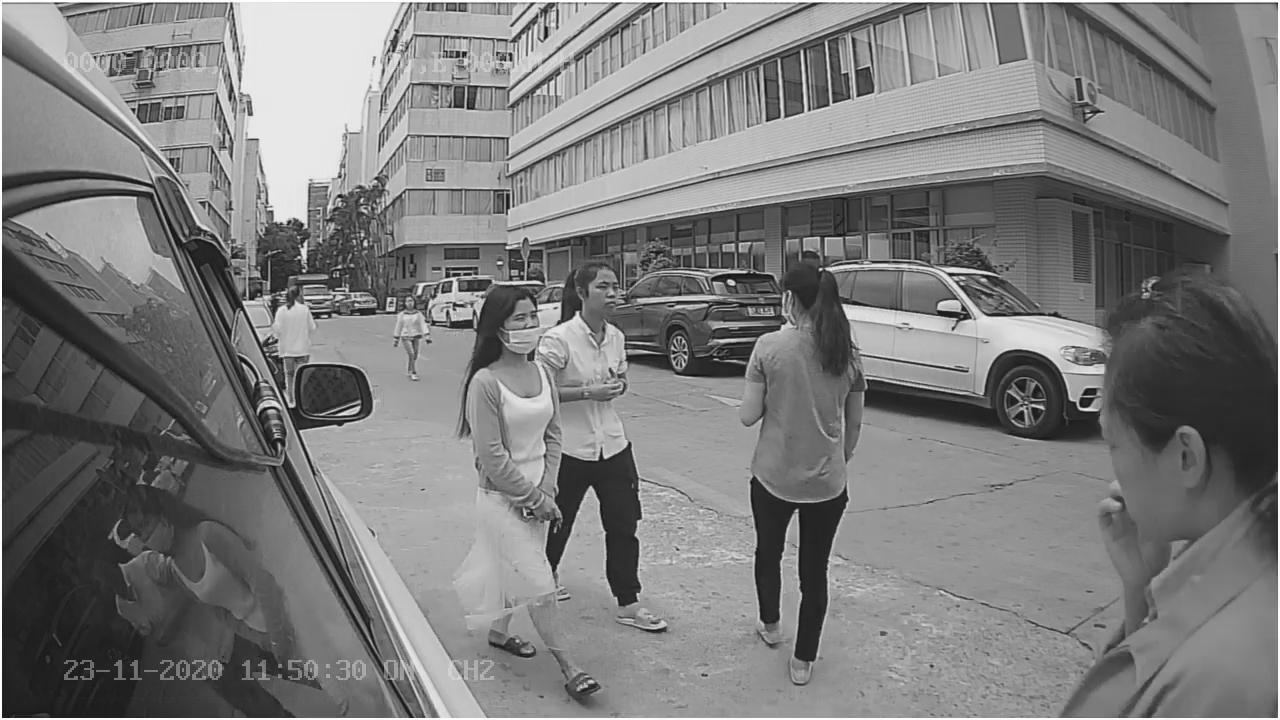person: (454, 279, 600, 696), (733, 240, 854, 685)
